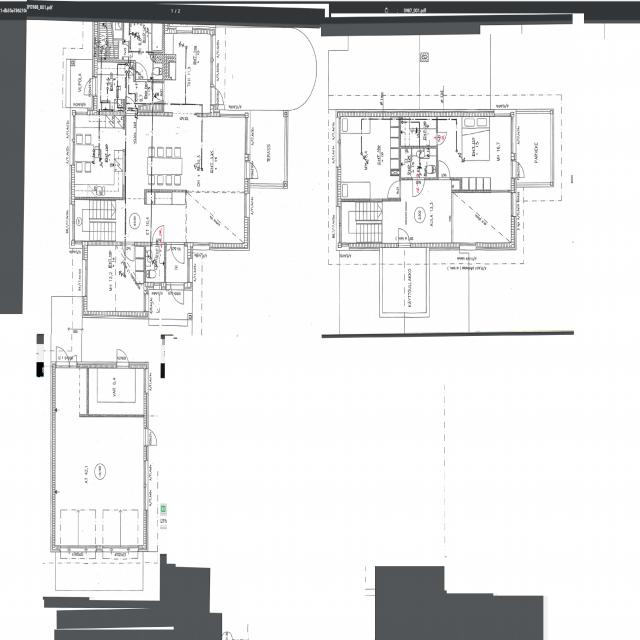door: (171, 282, 184, 308), (56, 343, 69, 368), (210, 87, 227, 105), (80, 78, 98, 95), (171, 242, 184, 264), (511, 161, 527, 178), (144, 429, 160, 445), (245, 162, 261, 178), (117, 345, 128, 368), (122, 241, 134, 262), (152, 225, 164, 245), (151, 83, 165, 100), (387, 181, 401, 198), (126, 95, 137, 116), (399, 226, 410, 247), (136, 62, 147, 82), (439, 161, 450, 180), (413, 178, 424, 196), (122, 44, 132, 57), (436, 132, 446, 145), (70, 351, 76, 368), (166, 282, 171, 296), (167, 241, 171, 252)
